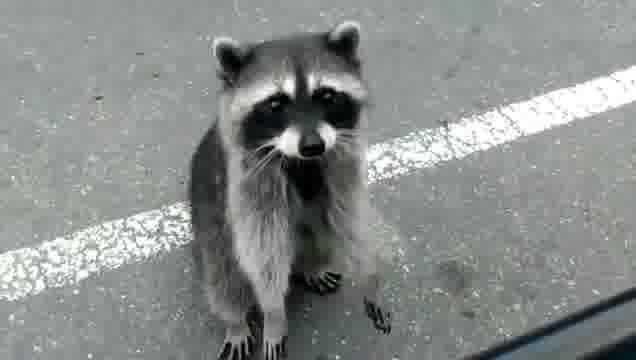raccoon: (188, 20, 396, 360)
